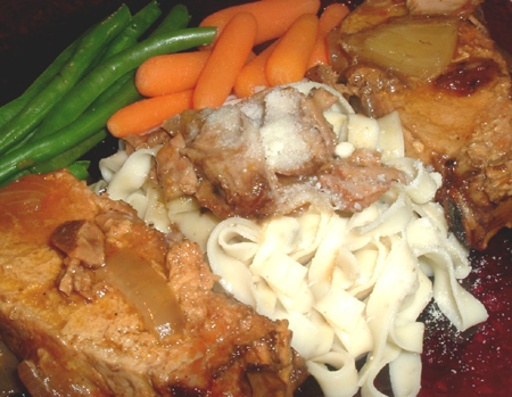background: (0, 0, 410, 246)
